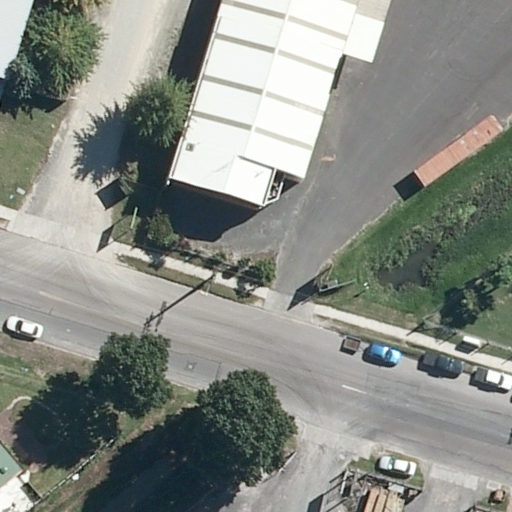DT: (194, 261, 229, 299)
